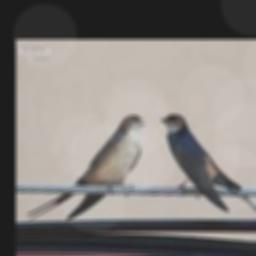Swallow: (25, 115, 145, 219), (159, 113, 256, 217)
